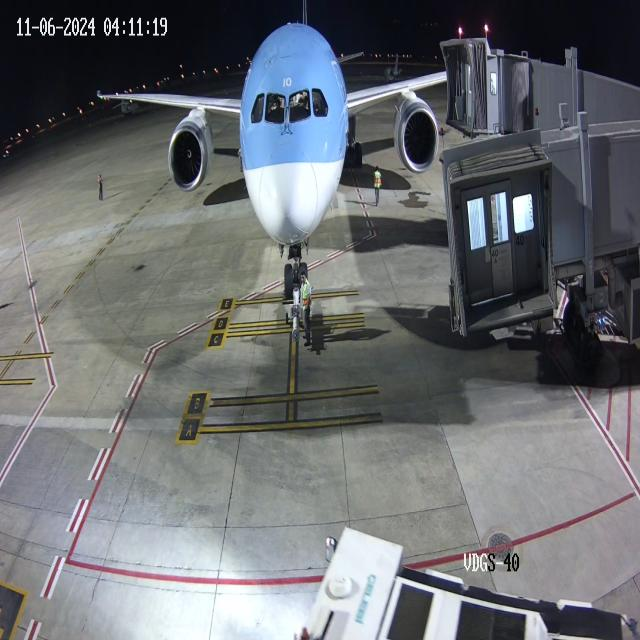bridge: (469, 31, 534, 140)
plane: (83, 2, 431, 306)
window: (248, 85, 331, 130)
